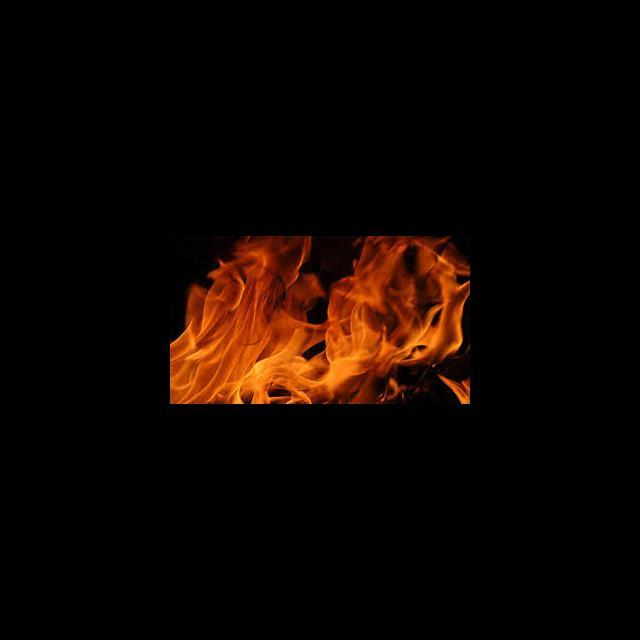Fire: (175, 238, 469, 403)
